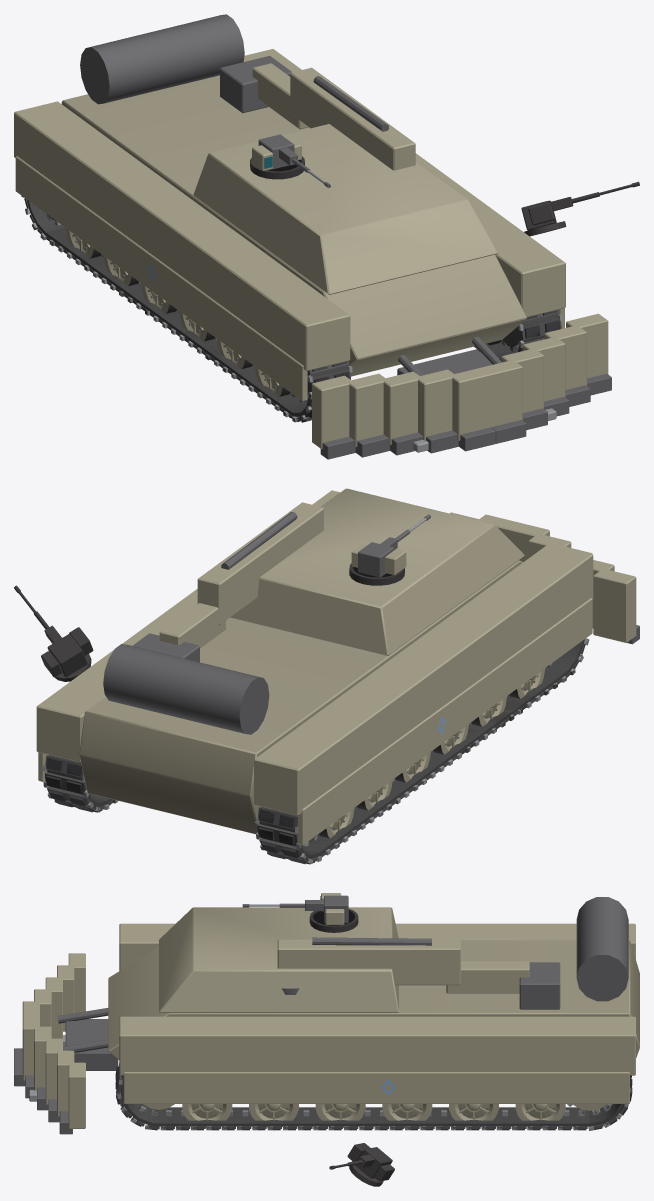
The model's file is mineClearer__trojan_avre.glb.
The picture shows the model from 3 angles, top to bottom: view 1: azimuth 30°, elevation 25°; view 2: azimuth 150°, elevation 25°; view 3: azimuth 270°, elevation 25°; orthographic projection. The views are drawn at different scales.
Visible parts, largest first — view 1: Hull_Mesh, Track_L_Mesh, Wreck, Track_R_Mesh, Turret_Mesh; view 2: Hull_Mesh, Track_L_Mesh, Wreck, Track_R_Mesh, Turret_Mesh; view 3: Hull_Mesh, Track_R_Mesh, Wreck, Turret_Mesh, Wheel_R0_Mesh, Wheel_R3_Mesh, Wheel_R2_Mesh, Wheel_R5_Mesh, Wheel_R1_Mesh, Wheel_R4_Mesh, Gun_Mesh.
Boxes of the visible parts, x1,y1,x2,y2 form: Hull_Mesh: (14, 14, 611, 459); Track_L_Mesh: (21, 195, 352, 422); Wreck: (24, 156, 639, 422); Track_R_Mesh: (474, 310, 562, 360); Turret_Mesh: (252, 134, 301, 171); Hull_Mesh: (36, 488, 639, 845); Track_L_Mesh: (255, 638, 589, 864); Wreck: (14, 563, 587, 863); Track_R_Mesh: (42, 755, 118, 812); Turret_Mesh: (351, 542, 406, 577); Hull_Mesh: (14, 897, 639, 1134); Track_R_Mesh: (115, 1063, 632, 1130); Wreck: (115, 909, 631, 1186); Turret_Mesh: (320, 893, 348, 924); Wheel_R0_Mesh: (515, 1104, 565, 1128); Wheel_R3_Mesh: (315, 1104, 365, 1127); Wheel_R2_Mesh: (382, 1104, 432, 1127); Wheel_R5_Mesh: (182, 1104, 232, 1127); Wheel_R1_Mesh: (449, 1104, 498, 1127); Wheel_R4_Mesh: (249, 1104, 298, 1127); Gun_Mesh: (242, 900, 323, 910).
Size of what is drawn, in the model's own units: 6.57 by 2.51 by 8.64.
